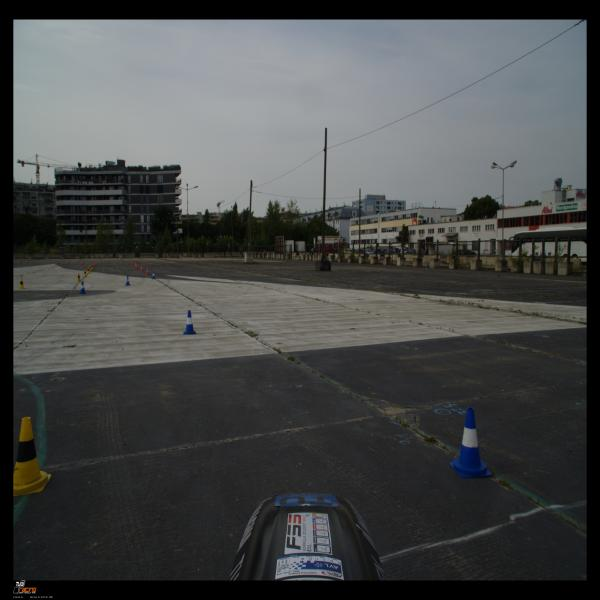blue_cone: (449, 407, 492, 478), (183, 310, 196, 334), (80, 281, 86, 294), (125, 276, 130, 286), (152, 271, 156, 279)
orange_cone: (146, 267, 150, 275), (140, 264, 144, 272), (131, 261, 134, 266), (81, 260, 84, 265), (136, 264, 138, 270), (18, 260, 21, 264), (66, 260, 69, 264), (134, 263, 136, 268), (26, 259, 28, 264), (121, 260, 123, 265), (94, 262, 96, 267), (57, 260, 59, 264), (100, 260, 102, 264), (95, 261, 96, 266)
yellow_cone: (14, 417, 52, 496), (18, 278, 25, 289), (76, 272, 82, 282), (84, 269, 87, 277), (88, 267, 91, 273), (89, 265, 92, 271), (91, 264, 93, 269)
